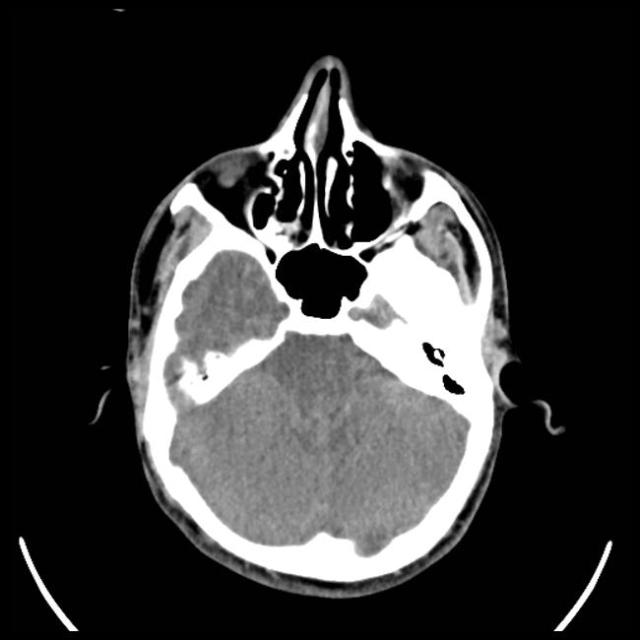lesion: (116, 53, 548, 600)
